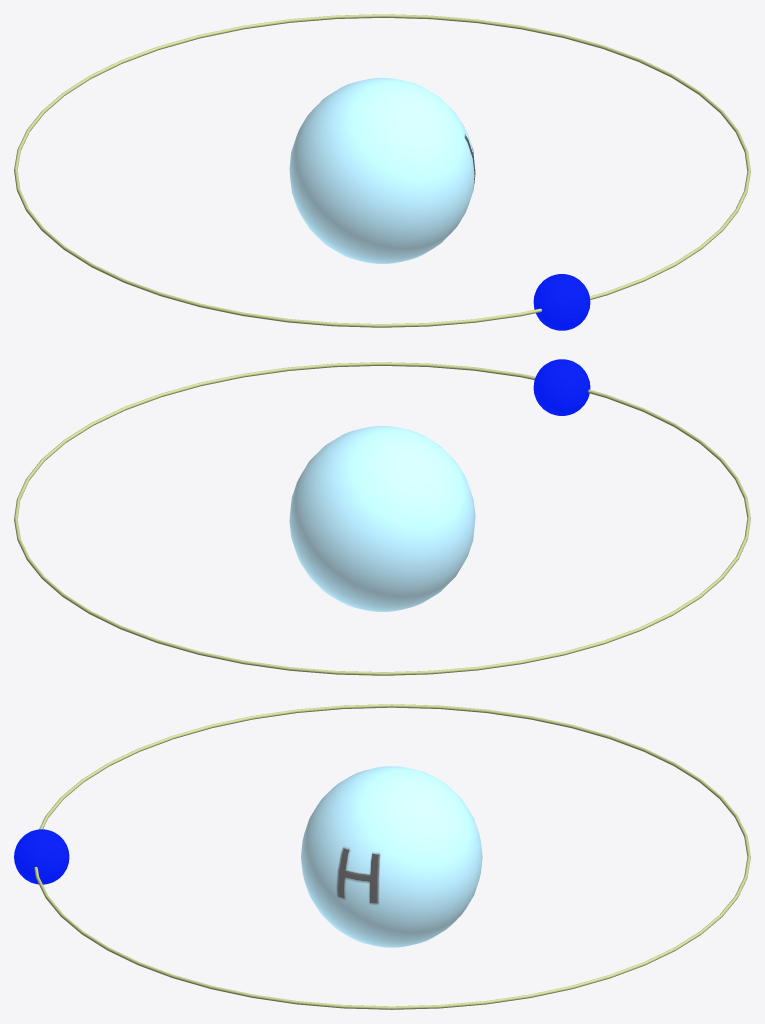
3 renders of one model, top to bottom at view 1: azimuth 30°, elevation 25°; view 2: azimuth 150°, elevation 25°; view 3: azimuth 270°, elevation 25°, orthographic. The views are drawn at different scales.
Parts seen in each view (by area): view 1: 球体.001, 贝塞尔圆环, 球体.004; view 2: 球体.001, 贝塞尔圆环, 球体.004; view 3: 球体.001, 贝塞尔圆环, 球体.004.
Boxes of the visible parts, <box> form: 球体.001: <box>289,78,475,263</box>; 贝塞尔圆环: <box>14,14,750,327</box>; 球体.004: <box>533,274,590,330</box>; 球体.001: <box>289,426,475,611</box>; 贝塞尔圆环: <box>14,362,750,675</box>; 球体.004: <box>533,359,590,415</box>; 球体.001: <box>301,766,482,947</box>; 贝塞尔圆环: <box>34,704,750,1009</box>; 球体.004: <box>14,829,69,884</box>.
Size of the model in its own units: 1.22 by 0.3083 by 1.25.
3 materials, 1 textured.
